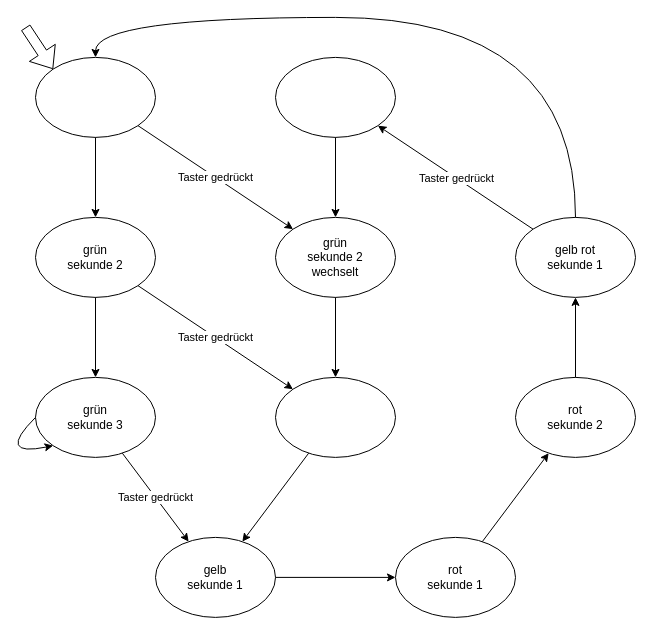
The diagram is 653 pixels wide and 636 high, and some of its shapes have lost their labels. Here are the shapes that lost their labels. From the top down, the centre of each, then its label:
At pixel 95 96: "grün sekunde 1".
At pixel 335 96: "grün sekunde 1 wechselt".
At pixel 335 416: "grün sekunde 3 wechselt".
